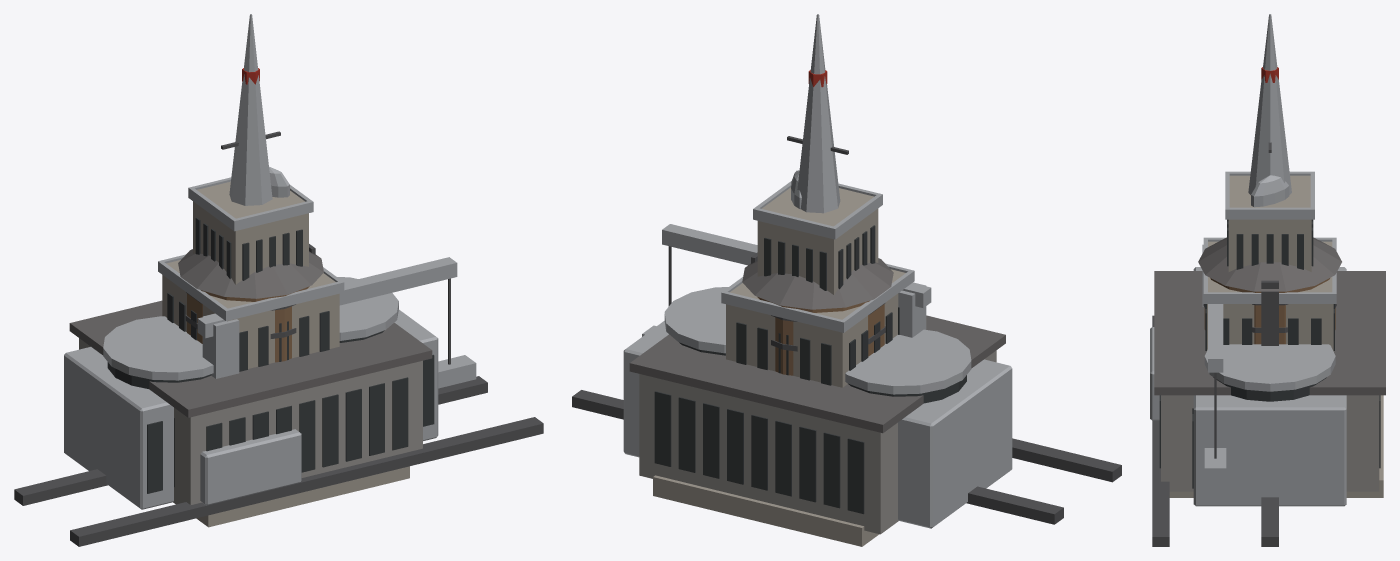
File: kit.glb
3 renders of one model, left to right at view 1: azimuth 30°, elevation 25°; view 2: azimuth 150°, elevation 25°; view 3: azimuth 270°, elevation 25°, orthographic. The views are drawn at different scales.
Visible parts, largest first — view 1: louver, coolers, crown, bmu, tank, cornice, mast; view 2: louver, coolers, crown, bmu, tank, cornice, mast; view 3: coolers, louver, crown, tank, bmu, mast, cornice.
Part boxes in pixels (box(x1,y1,x2,y2)): louver: box(69, 300, 432, 504); coolers: box(64, 277, 438, 509); crown: box(158, 14, 344, 371); bmu: box(14, 257, 543, 546); tank: box(178, 244, 323, 362); cornice: box(196, 466, 409, 527); mast: box(221, 68, 289, 197); louver: box(629, 315, 1005, 534); coolers: box(623, 287, 1012, 528); crown: box(721, 14, 914, 387); bmu: box(572, 224, 1121, 524); tank: box(742, 252, 893, 375); cornice: box(653, 475, 879, 546); mast: box(787, 70, 848, 209); coolers: box(1192, 267, 1346, 506); louver: box(1154, 271, 1385, 491); crown: box(1203, 14, 1336, 350); tank: box(1198, 237, 1341, 345); bmu: box(1150, 244, 1278, 546); mast: box(1251, 67, 1289, 207); cornice: box(1169, 395, 1383, 497).
Bounding box in the file's own units: 2.4 × 2.2 × 1.08.
